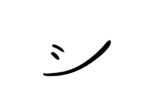shi: (39, 34, 114, 80)
